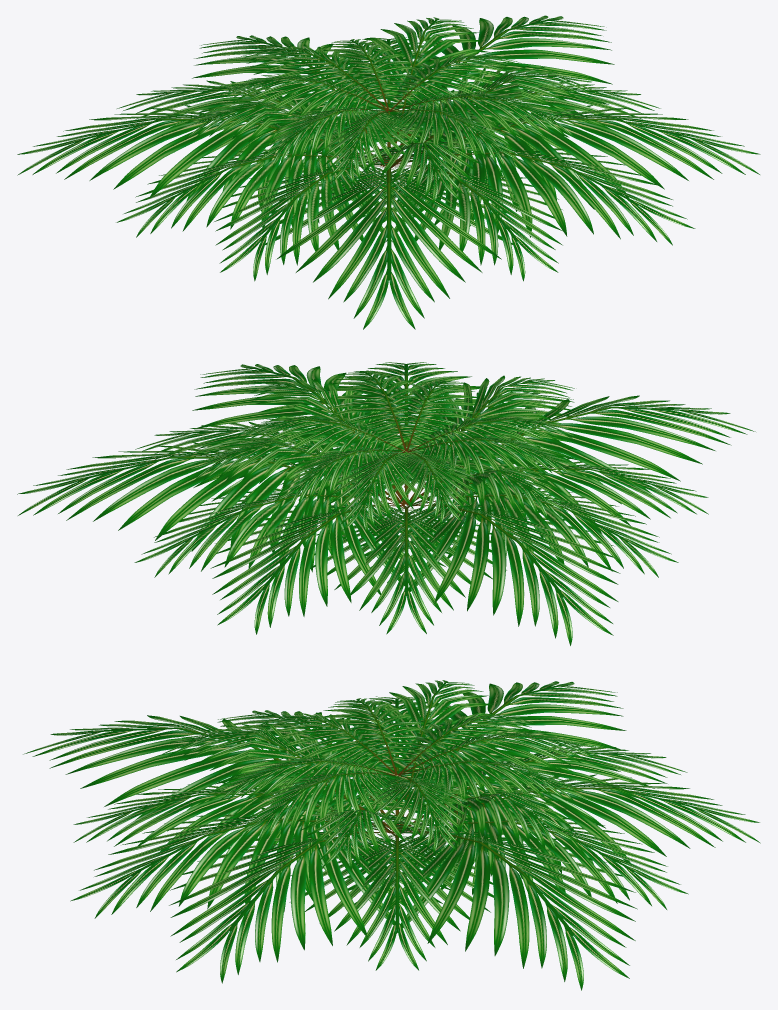
File: bush.dae
3 renders of one model, top to bottom at view 1: azimuth 30°, elevation 25°; view 2: azimuth 150°, elevation 25°; view 3: azimuth 270°, elevation 25°, orthographic. The views are drawn at different scales.
Visible parts, largest first — view 1: Plane; view 2: Plane; view 3: Plane.
Boxes of the visible parts, x1,y1,x2,y2 form: Plane: (17, 15, 760, 329); Plane: (17, 362, 755, 645); Plane: (23, 680, 760, 990).
Bounding box in the file's own units: 4.57 × 4.58 × 0.5957.
Materials: 1 (1 with a texture image).
